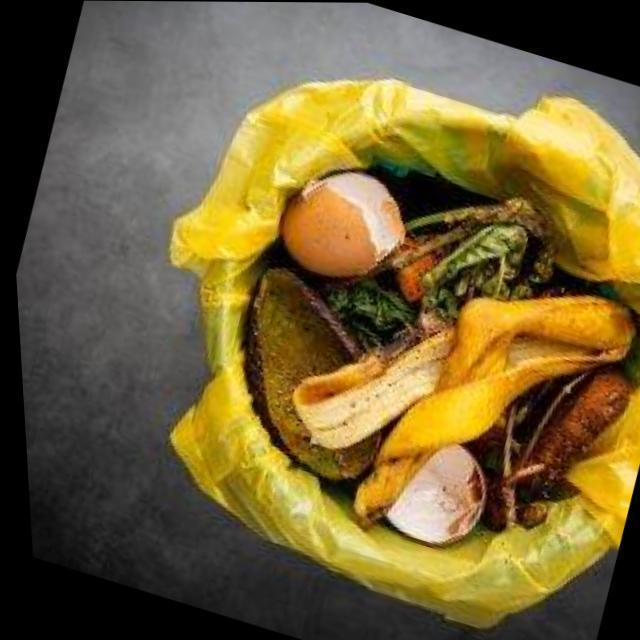Garbage: (241, 166, 640, 543)
